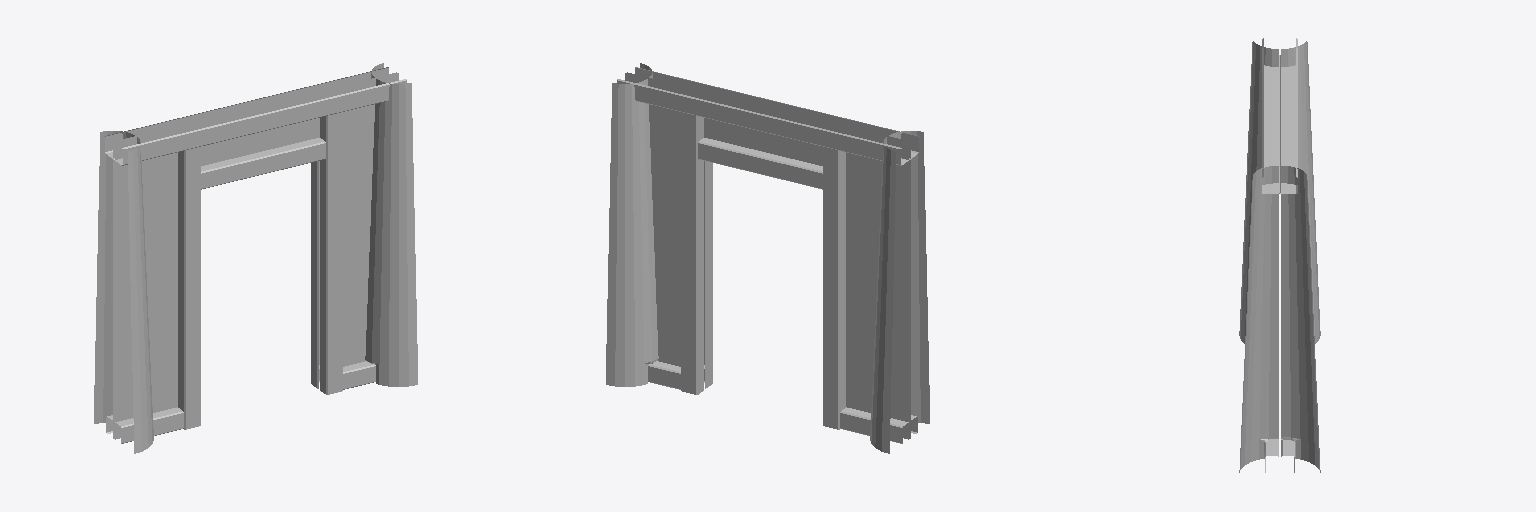
Rendered from Arch.obj.
The picture shows the model from 3 angles: view 1: azimuth 30°, elevation 25°; view 2: azimuth 150°, elevation 25°; view 3: azimuth 270°, elevation 25°; orthographic projection.
Parts seen in each view (by area): view 1: IntWall01door, IntWall01door__1_; view 2: IntWall01door__1_, IntWall01door; view 3: IntWall01door, IntWall01door__1_.
Part boxes in pixels (bbox=[...]): IntWall01door: bbox=[114, 73, 417, 453]; IntWall01door__1_: bbox=[94, 63, 396, 438]; IntWall01door__1_: bbox=[606, 73, 909, 453]; IntWall01door: bbox=[627, 63, 929, 438]; IntWall01door: bbox=[1239, 38, 1280, 472]; IntWall01door__1_: bbox=[1279, 38, 1320, 472].
Bounding box in the file's own units: 1.88 × 1.88 × 0.465.